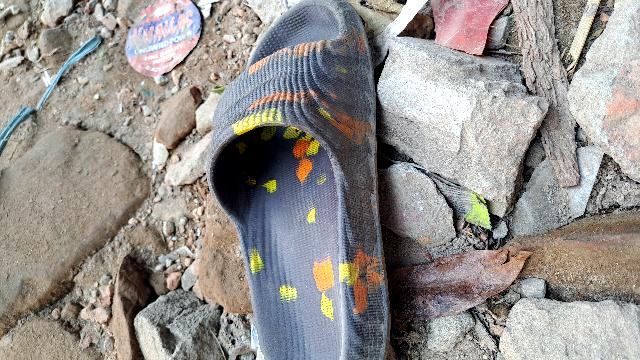sandal: (216, 0, 409, 360)
